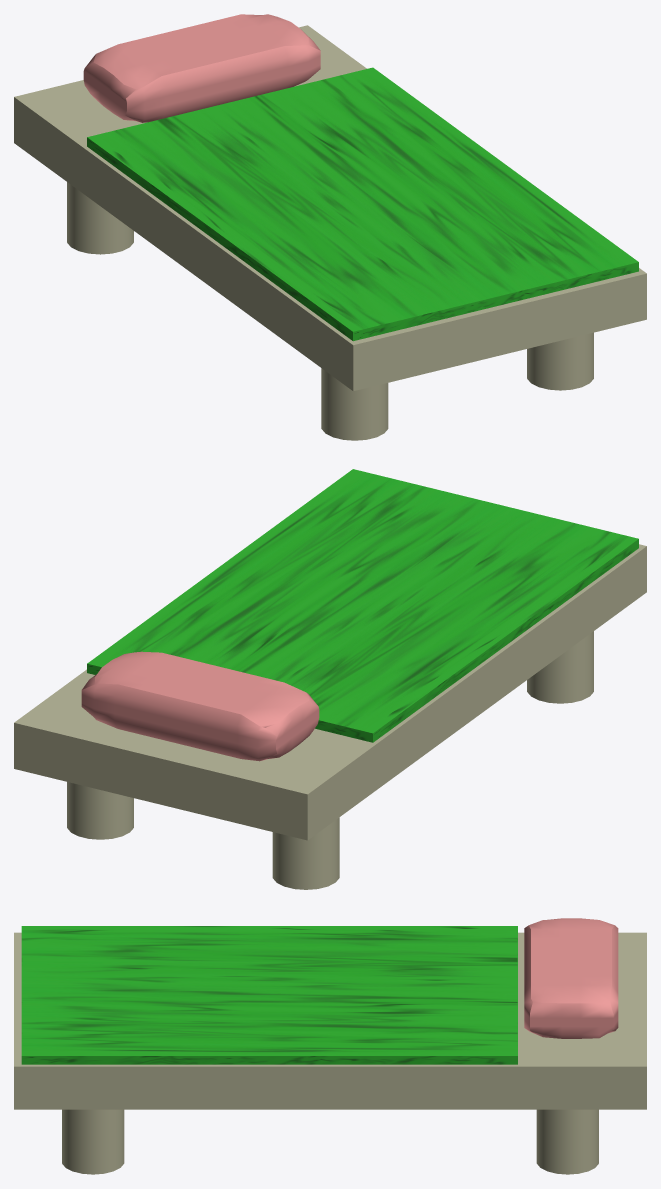
Rendered from Bed.FBX.
The picture shows the model from 3 angles, top to bottom: view 1: azimuth 30°, elevation 25°; view 2: azimuth 150°, elevation 25°; view 3: azimuth 270°, elevation 25°; orthographic projection. The views are drawn at different scales.
Visible parts, largest first — view 1: Box001, Box003, Box002, Cylinder002, Cylinder004, Cylinder003; view 2: Box001, Box003, Box002, Cylinder003, Cylinder001, Cylinder002; view 3: Box001, Box003, Box002, Cylinder004, Cylinder001.
Boxes of the visible parts, x1,y1,x2,y2 form: Box001: (87, 67, 638, 341); Box003: (14, 25, 646, 391); Box002: (83, 14, 320, 122); Cylinder002: (321, 368, 388, 440); Cylinder004: (527, 332, 593, 390); Cylinder003: (67, 182, 133, 254); Box001: (87, 469, 638, 742); Box003: (14, 544, 646, 840); Box002: (81, 651, 319, 761); Cylinder003: (272, 817, 339, 889); Cylinder001: (67, 782, 133, 839); Cylinder002: (527, 631, 593, 703); Box001: (21, 926, 517, 1064); Box003: (14, 932, 646, 1109); Box002: (524, 918, 618, 1038); Cylinder004: (62, 1109, 124, 1174); Cylinder001: (536, 1109, 598, 1174).
Size of the model in its own units: 40 by 21.92 by 80.
Materials: 7 (7 with a texture image).
